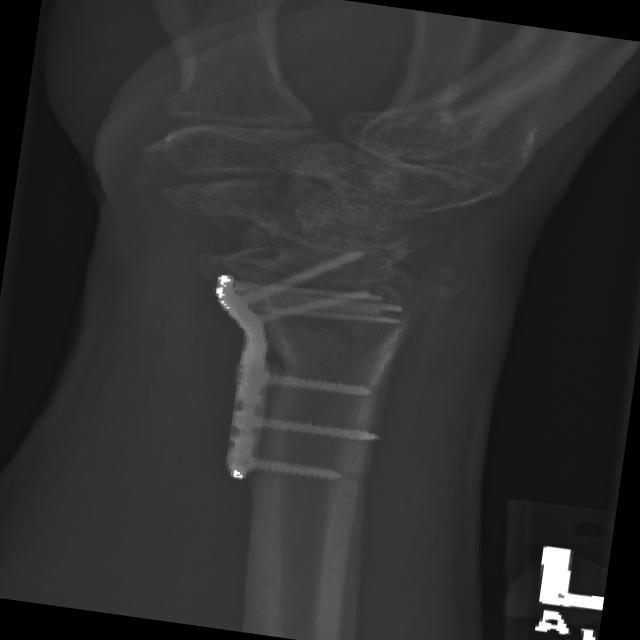wrist positive: (224, 278, 442, 371)
